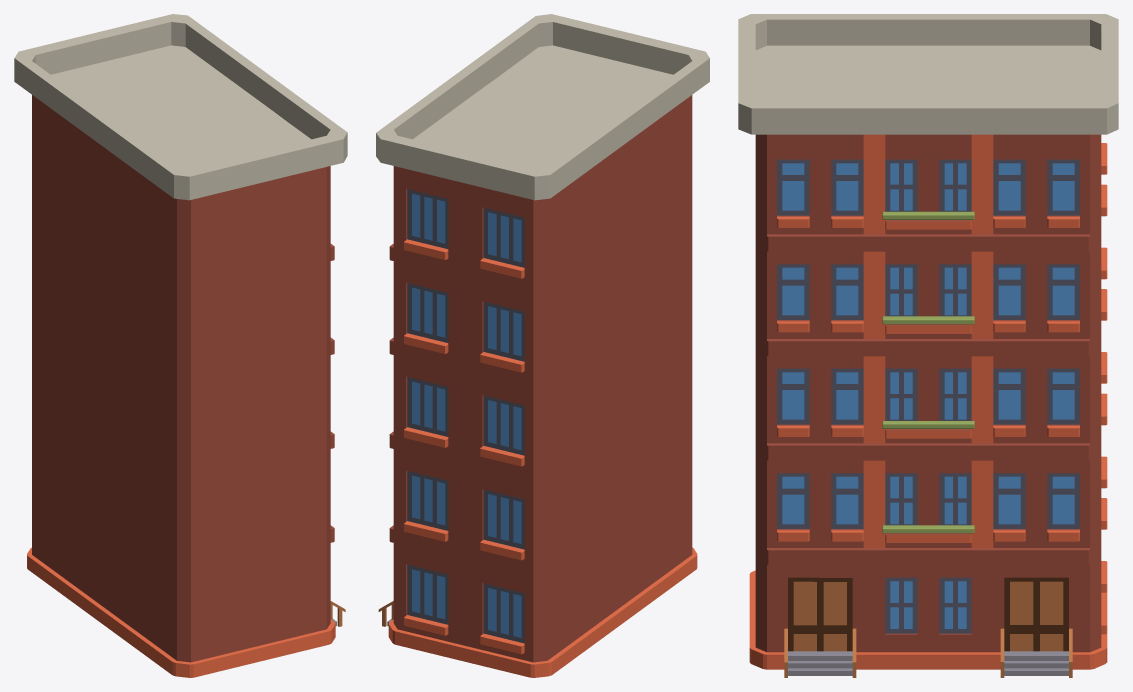
3 views of the same model, side by side, from view 1: azimuth 30°, elevation 25°; view 2: azimuth 150°, elevation 25°; view 3: azimuth 270°, elevation 25° (orthographic). The views are drawn at different scales.
Visible parts, largest first — view 1: Predio 1; view 2: Predio 1; view 3: Predio 1.
Boxes of the visible parts, x1,y1,x2,y2 form: Predio 1: [14, 14, 347, 677]; Predio 1: [376, 14, 709, 677]; Predio 1: [738, 14, 1118, 677].
Bounding box in the file's own units: 4164 × 10800 × 6600.
